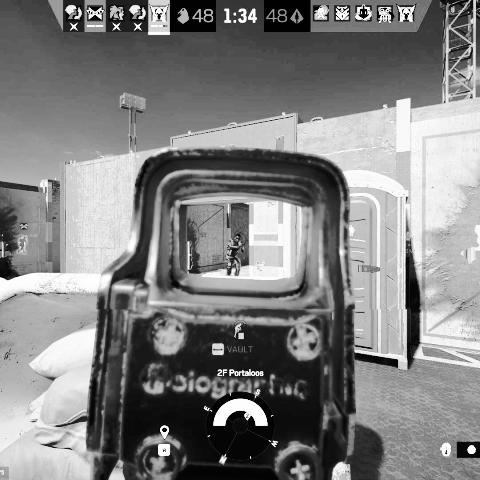Character: (224, 233, 246, 277)
Friend_label: (10, 222, 39, 238)
Head: (234, 233, 242, 243)
